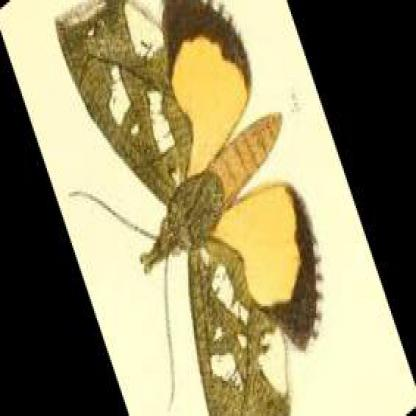fruit sucking moth: (56, 0, 324, 414)
